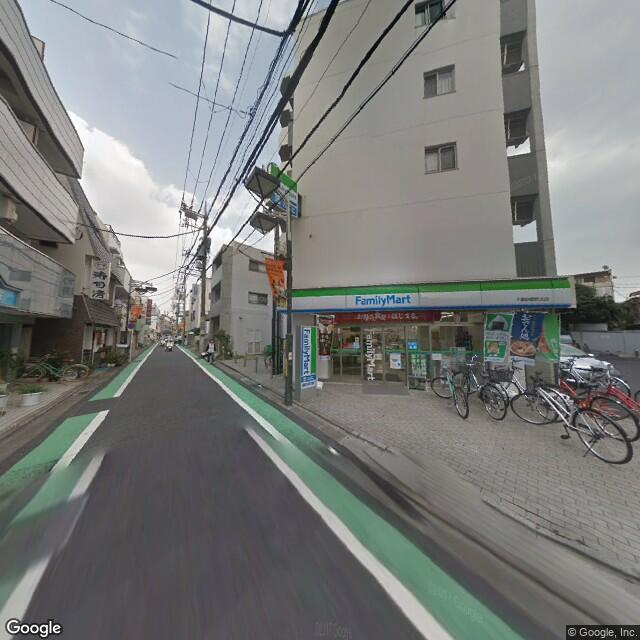family_mart: (290, 274, 578, 316), (272, 167, 301, 210), (300, 322, 318, 381)
